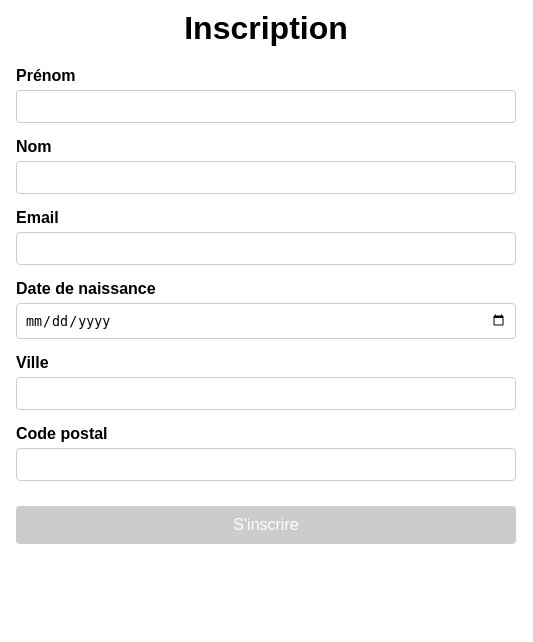
Test: le toaster disparait si on modifie un champ apres
Type "Kany" into the field labelled "Prénom" at [266, 107], box [16, 90, 516, 123]
Type "Chheng" into the field labelled "Nom" at [266, 178], box [16, 161, 516, 194]
Type "kany@test.com" into the field labelled "Email" at [266, 249], box [16, 232, 516, 265]
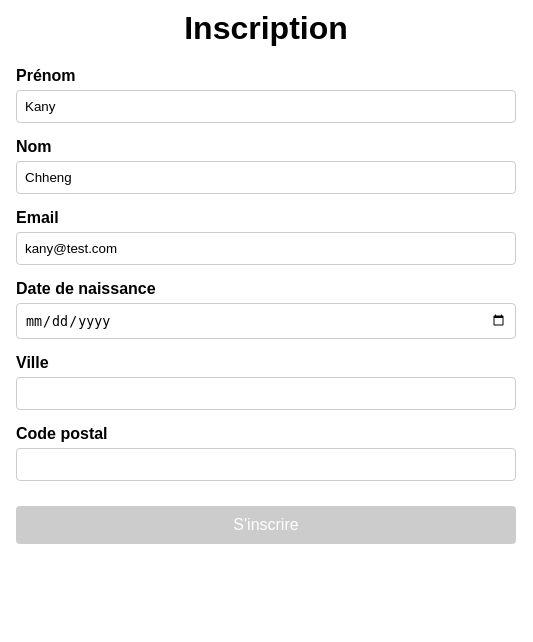
Type "1998-03-22" into the date field labelled "Date de naissance" at [266, 321], box [16, 303, 516, 339]
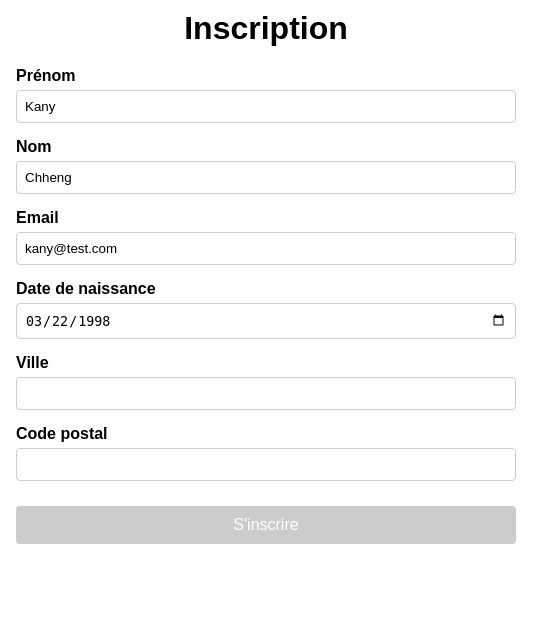
Type "Paris" into the field labelled "Ville" at [266, 393], box [16, 377, 516, 410]
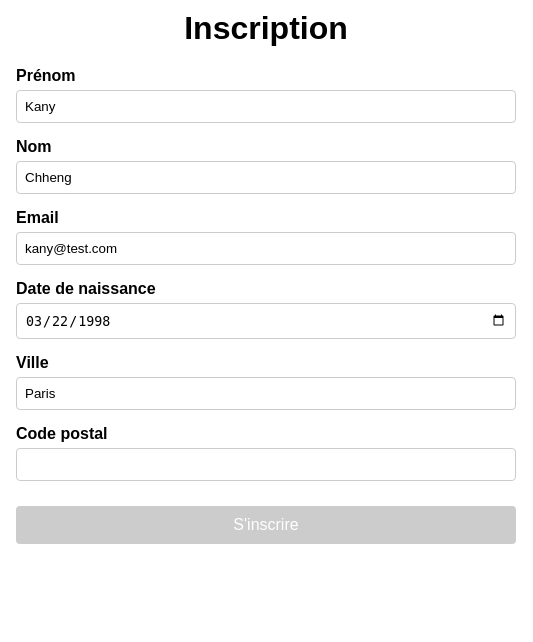
Type "75015" into the field labelled "Code postal" at [266, 464], box [16, 448, 516, 481]
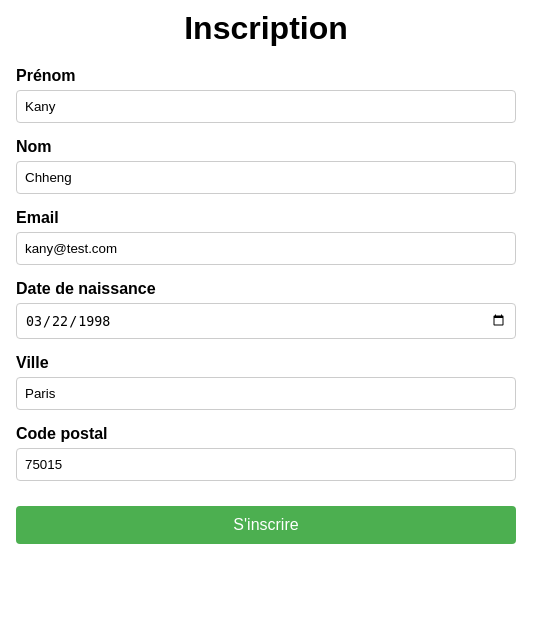
Click the button "S'inscrire" at [266, 525], box [16, 506, 516, 544]
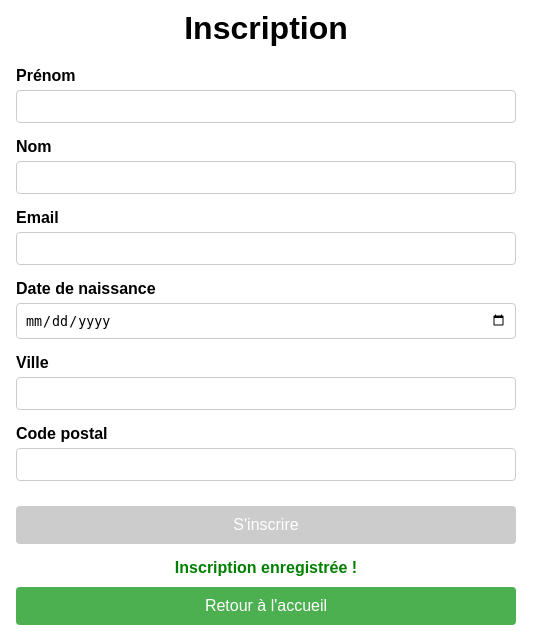
Now the text "Inscription enregistrée !" is shown, box [175, 559, 357, 576]
Type "Marie" into the field labelled "Prénom" at [266, 107], box [16, 90, 516, 123]
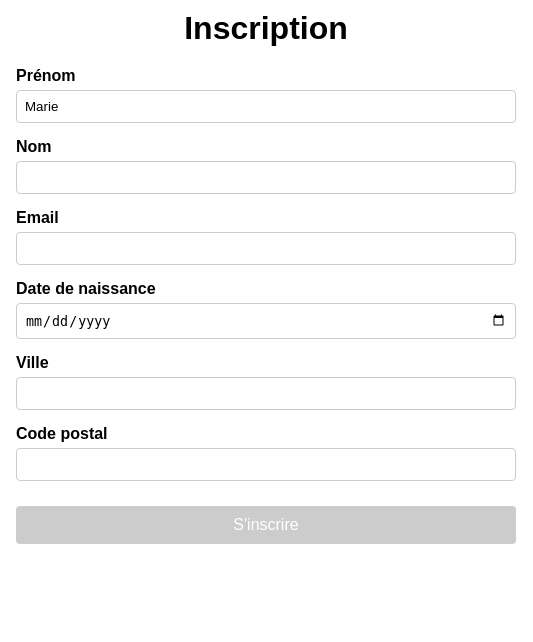
Now the text "Inscription enregistrée !" is gone
